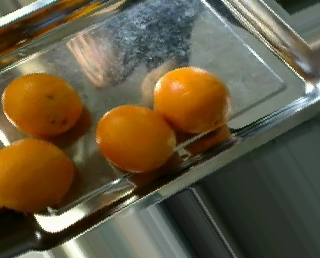Orange: (96, 105, 178, 173), (0, 137, 71, 213), (152, 66, 229, 134), (2, 74, 82, 138)
